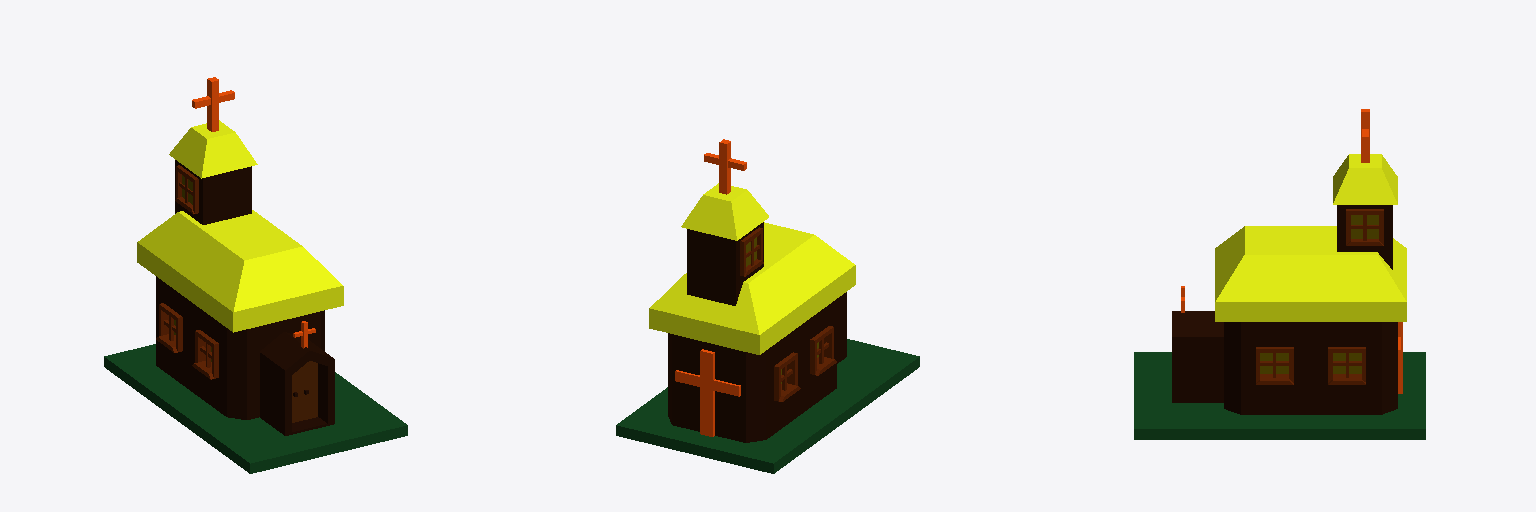
The model's file is Church.obj.
3 views of the same model, side by side, from view 1: azimuth 30°, elevation 25°; view 2: azimuth 150°, elevation 25°; view 3: azimuth 270°, elevation 25° (orthographic).
Parts seen in each view (by area): view 1: Cube.002_Cube.004, Cube, Cube.001, Cube.003, Cube.005_Cube.006, Cube.004_Cube.005; view 2: Cube.002_Cube.004, Cube, Cube.001, Cube.003, Cube.007_Cube.008, Cube.005_Cube.006, Cube.004_Cube.005; view 3: Cube.002_Cube.004, Cube, Cube.001, Cube.003, Cube.004_Cube.005.
Boxes of the visible parts, box(x1,y1,x2,y2) form: Cube.002_Cube.004: box(137, 120, 343, 332); Cube: box(156, 276, 334, 435); Cube.001: box(104, 344, 407, 473); Cube.003: box(156, 303, 218, 379); Cube.005_Cube.006: box(192, 77, 234, 131); Cube.004_Cube.005: box(175, 165, 198, 214); Cube.002_Cube.004: box(649, 183, 855, 354); Cube: box(668, 292, 846, 442); Cube.001: box(616, 339, 919, 473); Cube.003: box(774, 326, 836, 401); Cube.007_Cube.008: box(675, 349, 740, 436); Cube.005_Cube.006: box(704, 139, 746, 194); Cube.004_Cube.005: box(740, 227, 763, 276); Cube.002_Cube.004: box(1215, 154, 1406, 321); Cube: box(1172, 311, 1397, 414); Cube.001: box(1134, 352, 1425, 439); Cube.003: box(1256, 347, 1365, 384); Cube.004_Cube.005: box(1346, 209, 1383, 245).
Size of the model in its own units: 16.29 by 28.71 by 26.2.